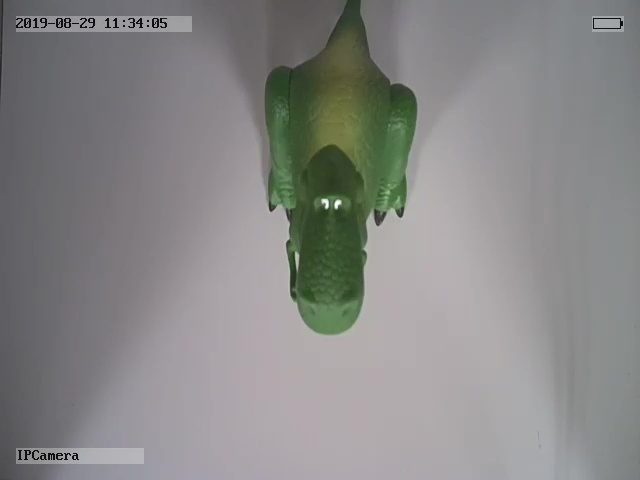rex: (260, 1, 421, 334)
